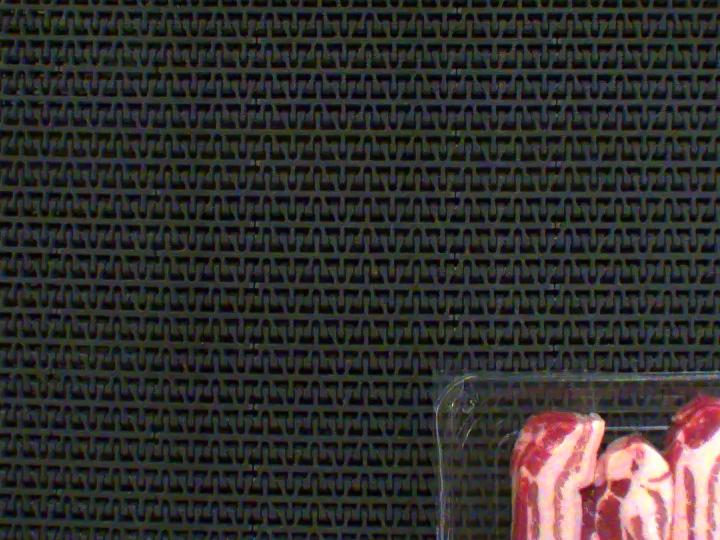packaging-error: (560, 384, 606, 420), (681, 381, 720, 403)
